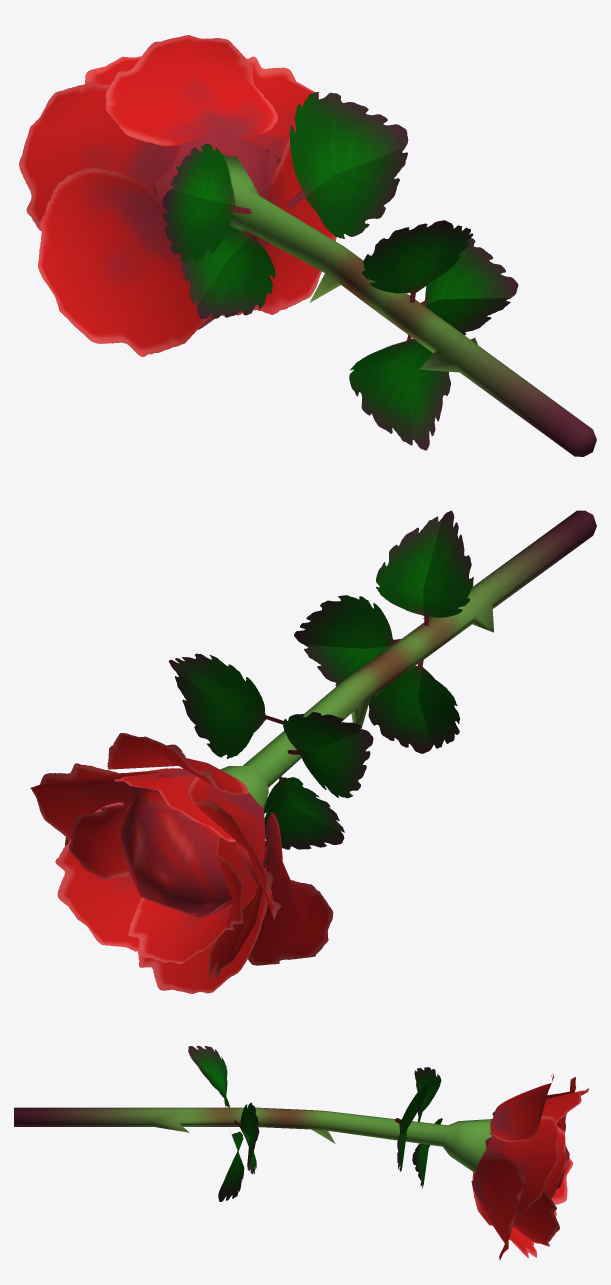
The model's file is SM_Rose_Red_Open.fbx.
3 views of the same model, one above another, from view 1: azimuth 30°, elevation 25°; view 2: azimuth 150°, elevation 25°; view 3: azimuth 270°, elevation 25° (orthographic). The views are drawn at different scales.
Visible parts, largest first — view 1: Rose_Red_Open; view 2: Rose_Red_Open; view 3: Rose_Red_Open.
Boxes of the visible parts, left/top/right/bottom form: Rose_Red_Open: left=19, top=35, right=596, bottom=456; Rose_Red_Open: left=30, top=510, right=596, bottom=993; Rose_Red_Open: left=14, top=1046, right=588, bottom=1260.
Size of the model in its own units: 50.21 by 50.94 by 127.
